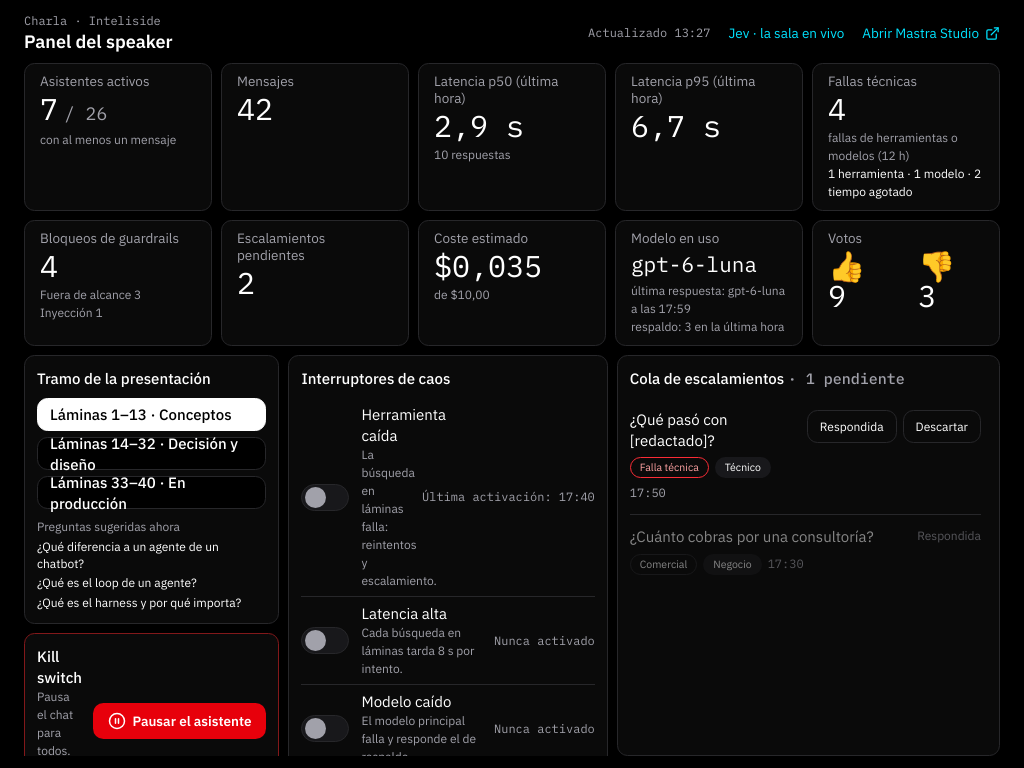
Scenario: Panel del speaker › tramo de la presentación › muestra las 3 preguntas que ven ahora los asistentes
Expected: the text "42" is shown, [237, 94, 273, 124]
Expected: the list items read "¿Qué diferencia a un agente de un chatbot?", "¿Qué es el loop de un agente?", "¿Qué es el harness y por qué importa?", in this order, [37, 539, 219, 570]; [37, 575, 197, 590]; [37, 594, 266, 611]
Click the button "Láminas 14–32 · Decisión y diseño" at (152, 454), box [37, 437, 266, 470]
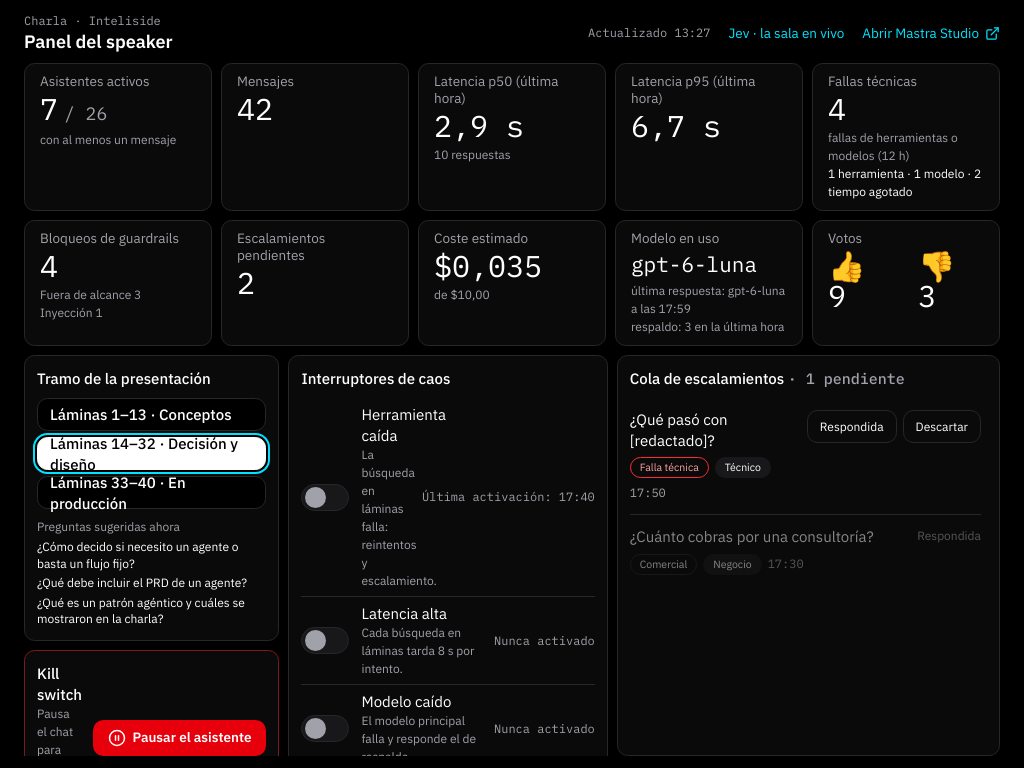
Now the list items read "¿Cómo decido si necesito un agente o basta un flujo fijo?", "¿Qué debe incluir el PRD de un agente?", "¿Qué es un patrón agéntico y cuáles se mostraron en la charla?", in this order, box [37, 539, 266, 572]; [37, 575, 266, 592]; [37, 594, 266, 628]
